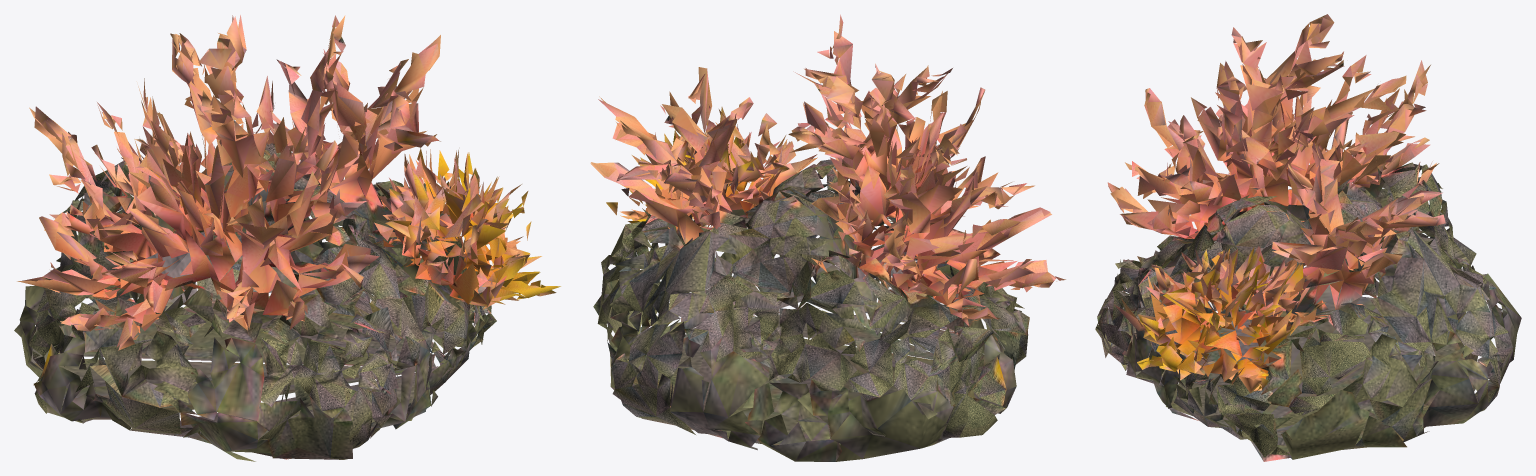
File: coral.glb
3 views of the same model, side by side, from view 1: azimuth 30°, elevation 25°; view 2: azimuth 150°, elevation 25°; view 3: azimuth 270°, elevation 25° (orthographic). The views are drawn at different scales.
Parts seen in each view (by area): view 1: coral; view 2: coral; view 3: coral.
Part boxes in pixels (x1,y1,x2,y2): coral: (14,15,560,461); coral: (590,14,1065,461); coral: (1095,14,1521,461).
Size of the model in its own units: 1.14 by 0.8347 by 0.9588.
1 material, 1 textured.
